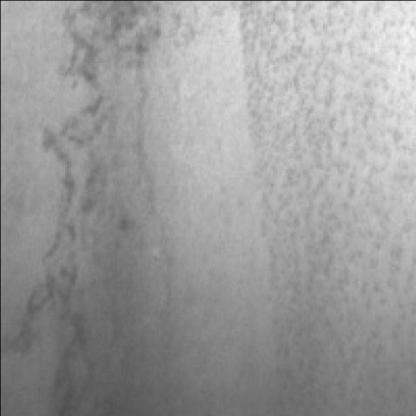pitted_surface: (8, 4, 181, 416), (243, 2, 412, 416)
